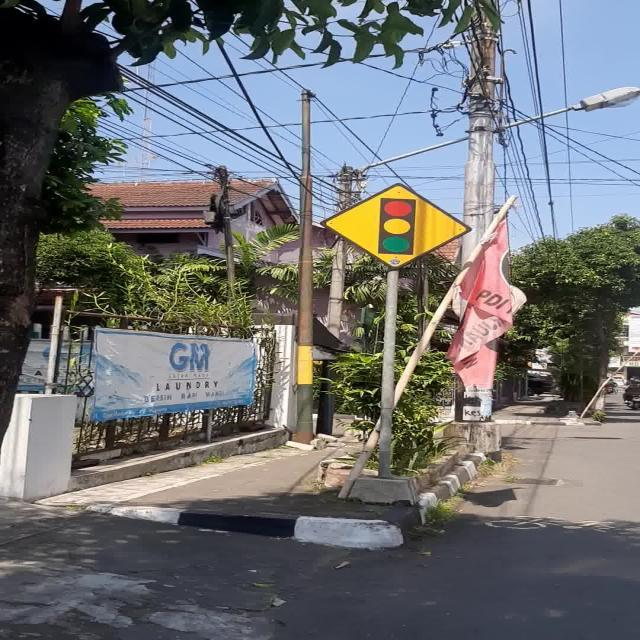Lampu Lalu Lintas: (319, 183, 472, 270)
